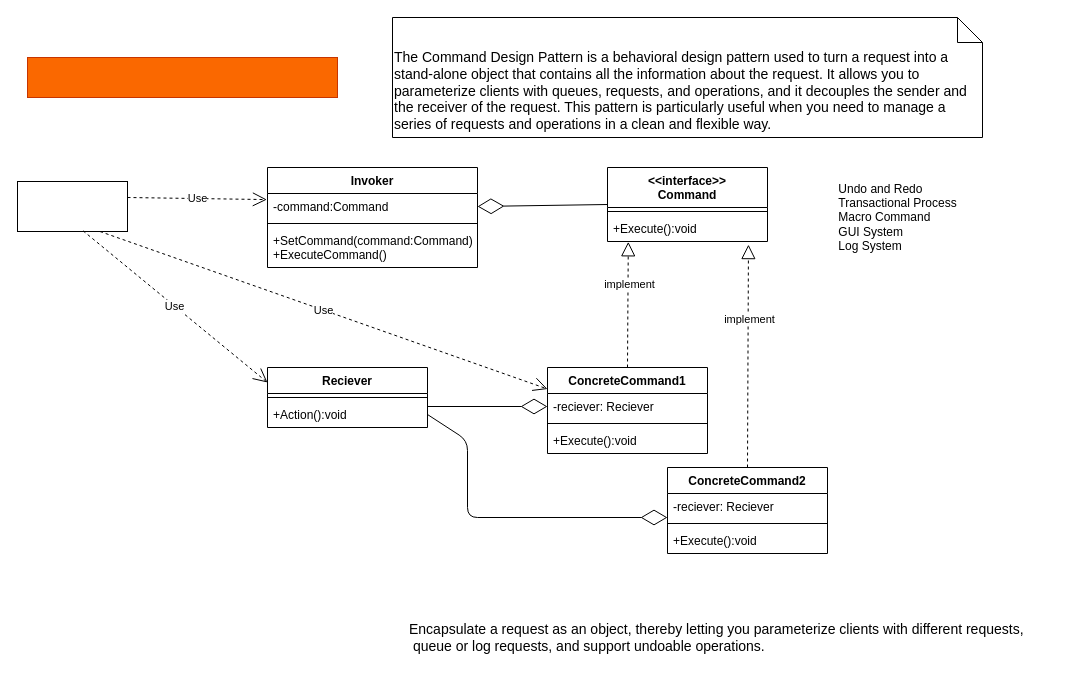
The diagram is 1065 pixels wide and 680 high, and some of its shapes have lost their labels. Each missing label, with the centre of its shape:
Client: point (72, 206)
Command Design Pattern: point (182, 77)
